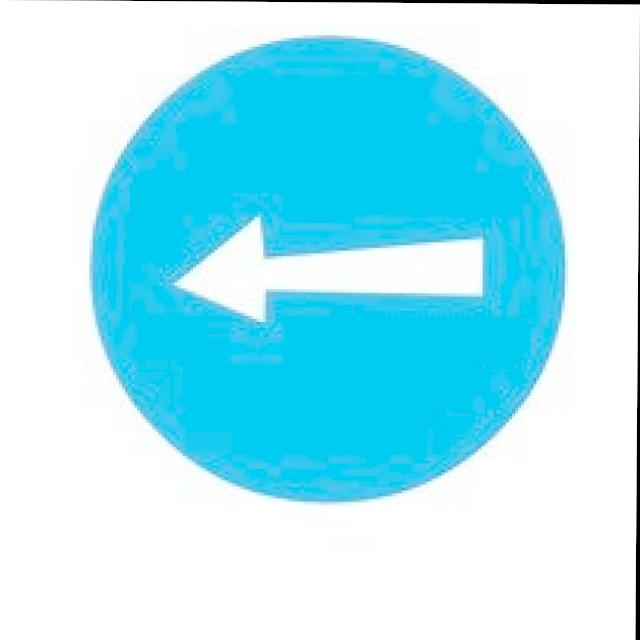COMPULSARY_TURN_LEFT: (92, 30, 570, 502)
